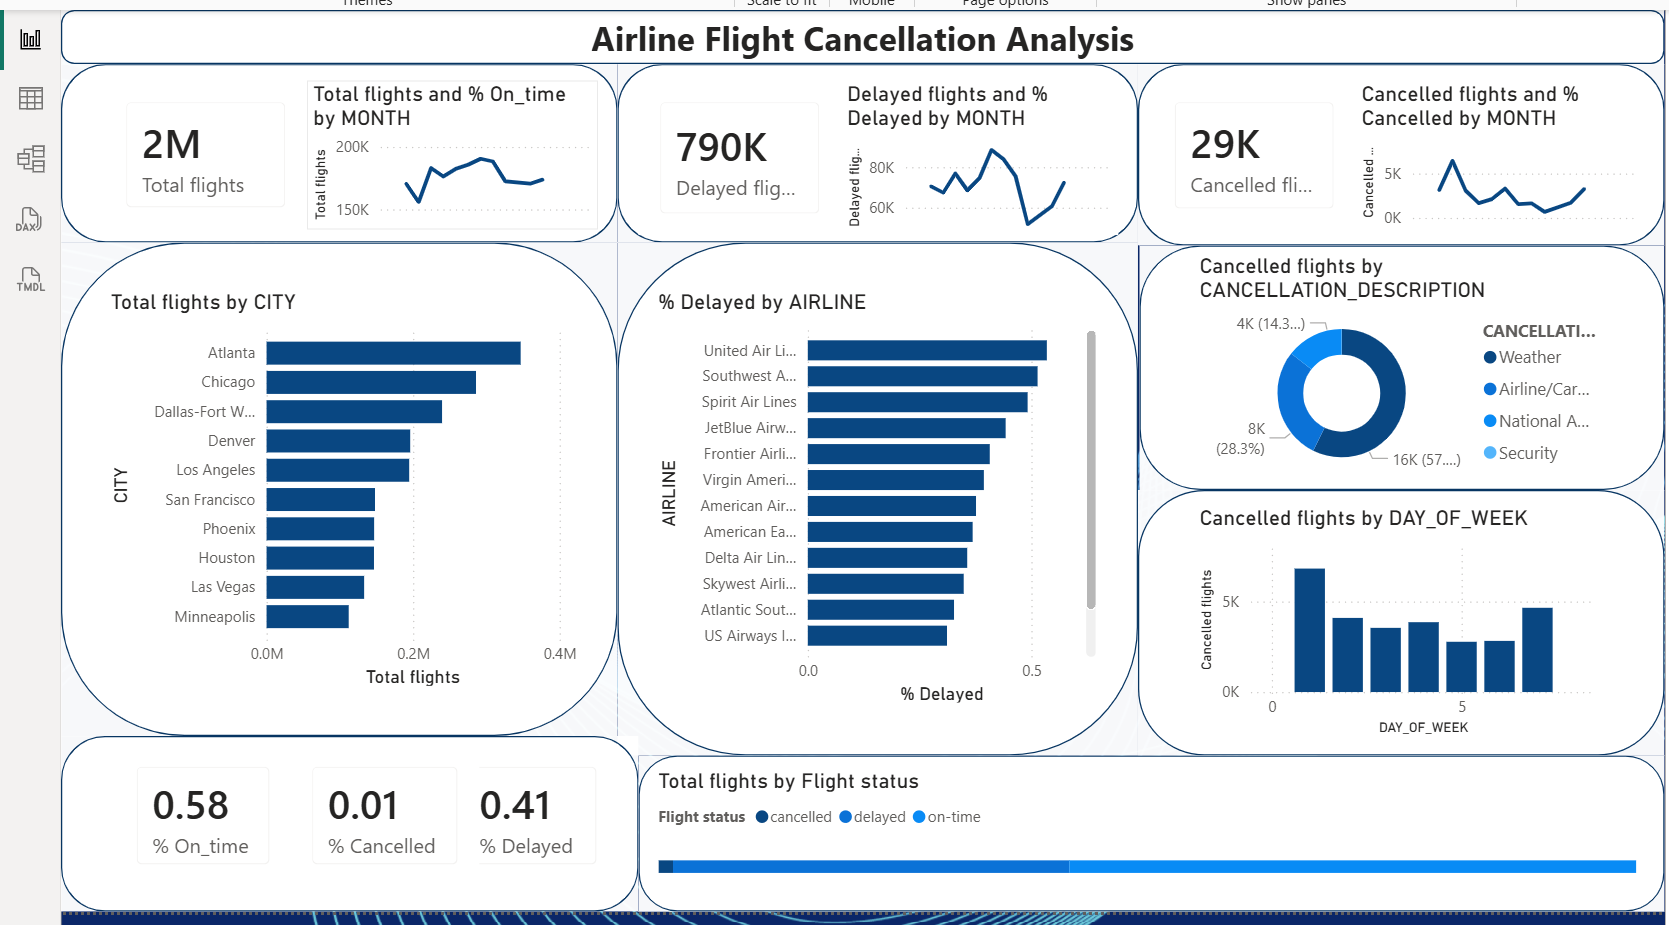

The dashboard page shown, as its layout file describes it:
{"tool":"powerbi","page":{"name":"Page 1","canvas":[1280,720],"ordinal":0},"visuals":[{"type":"shape","box":[0,43.1,444.1,142.4],"z":0},{"type":"shape","box":[859.5,43.1,420.2,144.8],"z":1000},{"type":"shape","box":[444.1,43.1,415.4,142.4],"z":2000},{"type":"shape","box":[0,185.5,444.1,393.8],"z":3000},{"type":"shape","box":[444.1,185.5,415.4,409.4],"z":4000},{"type":"shape","box":[860.7,187.9,419,195.1],"z":5000},{"type":"shape","box":[859.5,383,420.2,211.9],"z":6000},{"type":"shape","box":[0,579.4,460.9,140.1],"z":7000},{"type":"shape","box":[460.9,594.9,818.8,124.5],"z":8000},{"type":"cardVisual","fields":{"Data":["flights.Total flights"]},"box":[34.7,56.3,161.6,118.5],"z":9000},{"type":"lineChart","fields":{"Category":["flights.MONTH"],"Y":["flights.Total flights"]},"box":[196.3,56.3,232.2,118.5],"z":10000},{"type":"cardVisual","fields":{"Data":["flights.Delayed flights"]},"box":[460.9,56.3,161.6,123.3],"z":11000},{"type":"lineChart","fields":{"Category":["flights.MONTH"],"Y":["flights.Delayed flights"]},"box":[622.4,56.3,221.4,123.3],"z":12000},{"type":"cardVisual","fields":{"Data":["flights.Cancelled flights"]},"box":[871.4,56.3,161.6,119.7],"z":13000},{"type":"lineChart","fields":{"Category":["flights.MONTH"],"Y":["flights.Cancelled flights"]},"box":[1033,56.3,228.6,123.3],"z":14000},{"type":"cardVisual","fields":{"Data":["flights.% On_time"]},"box":[43.1,586.5,140.1,112.5],"z":15000},{"type":"cardVisual","fields":{"Data":["flights.% Delayed"]},"box":[304,586.5,140.1,112.5],"z":16000},{"type":"cardVisual","fields":{"Data":["flights.% Cancelled"]},"box":[183.1,586.5,150.8,112.5],"z":17000},{"type":"clusteredBarChart","fields":{"Y":["flights.Total flights"],"Category":["airports.CITY"]},"box":[34.7,222.6,381.8,322],"z":18000},{"type":"clusteredBarChart","fields":{"Category":["airlines.AIRLINE"],"Y":["flights.% Delayed"]},"box":[471.6,222.6,359.1,335.2],"z":19000},{"type":"donutChart","fields":{"Category":["cancellation_codes.CANCELLATION_DESCRIPTION"],"Y":["flights.Cancelled flights"]},"box":[903.7,193.9,332.8,184.3],"z":20000},{"type":"columnChart","fields":{"Category":["flights.DAY_OF_WEEK"],"Y":["flights.Cancelled flights"]},"box":[903.7,395,325.6,187.9],"z":21000},{"type":"hundredPercentStackedBarChart","fields":{"Y":["flights.Total flights"],"Series":["flights.Flight status"]},"box":[471.6,604.5,790,102.9],"z":22000},{"type":"shape","title":"Airline Flight Cancellation Dashboard","box":[0,0,1279.6,43.1],"z":23000}]}

Visuals, with their boxes on the page's 1280x720 design canvas (x1, y1, x2, y2). These are canvas units, not pixel positions in the 1669x925 screenshot, which may show the page scaled, cropped or inside an application window:
shape: (0,43,444,186)
shape: (860,43,1280,188)
shape: (444,43,860,186)
shape: (0,186,444,579)
shape: (444,186,860,595)
shape: (861,188,1280,383)
shape: (860,383,1280,595)
shape: (0,579,461,720)
shape: (461,595,1280,719)
cardVisual - flights.Total flights: (35,56,196,175)
lineChart - flights.MONTH x flights.Total flights: (196,56,428,175)
cardVisual - flights.Delayed flights: (461,56,622,180)
lineChart - flights.MONTH x flights.Delayed flights: (622,56,844,180)
cardVisual - flights.Cancelled flights: (871,56,1033,176)
lineChart - flights.MONTH x flights.Cancelled flights: (1033,56,1262,180)
cardVisual - flights.% On_time: (43,586,183,699)
cardVisual - flights.% Delayed: (304,586,444,699)
cardVisual - flights.% Cancelled: (183,586,334,699)
clusteredBarChart - flights.Total flights x airports.CITY: (35,223,416,545)
clusteredBarChart - airlines.AIRLINE x flights.% Delayed: (472,223,831,558)
donutChart - cancellation_codes.CANCELLATION_DESCRIPTION x flights.Cancelled flights: (904,194,1236,378)
columnChart - flights.DAY_OF_WEEK x flights.Cancelled flights: (904,395,1229,583)
hundredPercentStackedBarChart - flights.Total flights x flights.Flight status: (472,604,1262,707)
"Airline Flight Cancellation Dashboard" shape: (0,0,1280,43)
